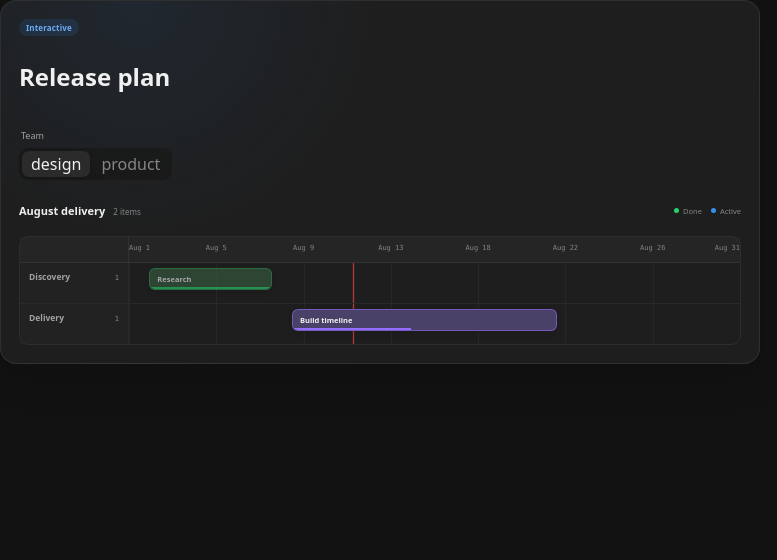
Test: provider-neutral inline visualizations › renders a filterable timeline with milestones, progress, and dependency details
Check: the text "August delivery" is shown, box [19,203,105,218]
Click the button "Build timeline" at (326, 320), box [292,309,557,331]
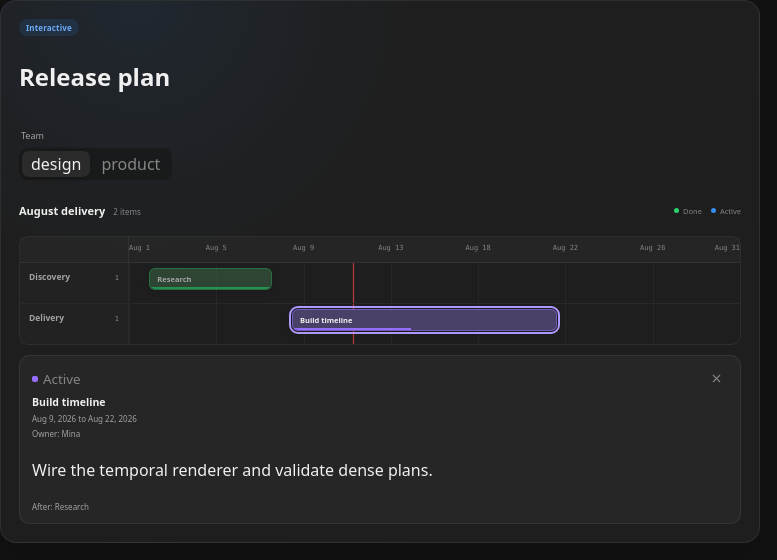
Check: the text "Wire the temporal renderer and validate dense plans." is shown, box [32,459,433,481]
Check: the text "After: Research" is shown, box [32,501,89,512]
Click the button "product" at (131, 164), box [92,151,169,177]
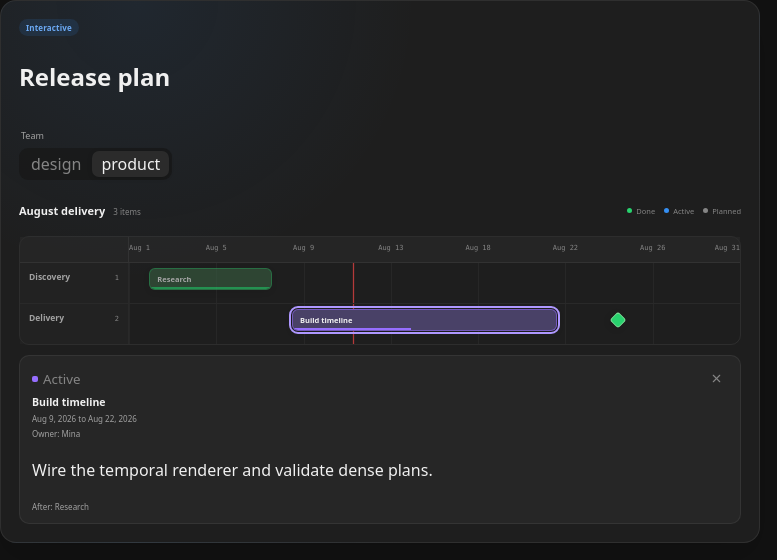
Check: the button named "Launch review" is shown, box [609,311,626,328]
